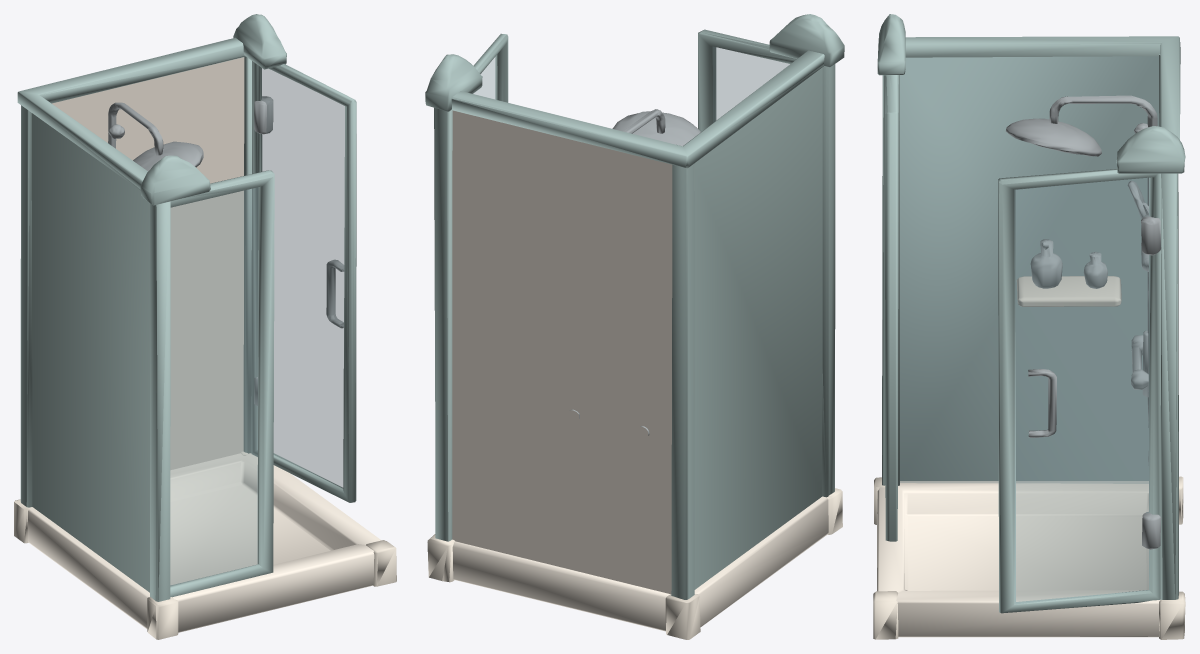
File: bath_shower.glb
The picture shows the model from 3 angles, left to right: view 1: azimuth 30°, elevation 25°; view 2: azimuth 150°, elevation 25°; view 3: azimuth 270°, elevation 25°; orthographic projection. The views are drawn at different scales.
Bounding box in the file's own units: 1.85 × 3.15 × 1.75.
